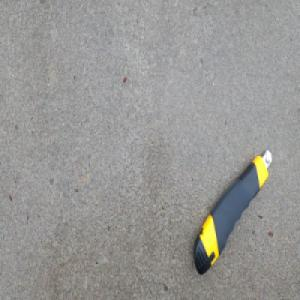Cutter: (192, 145, 273, 274)
